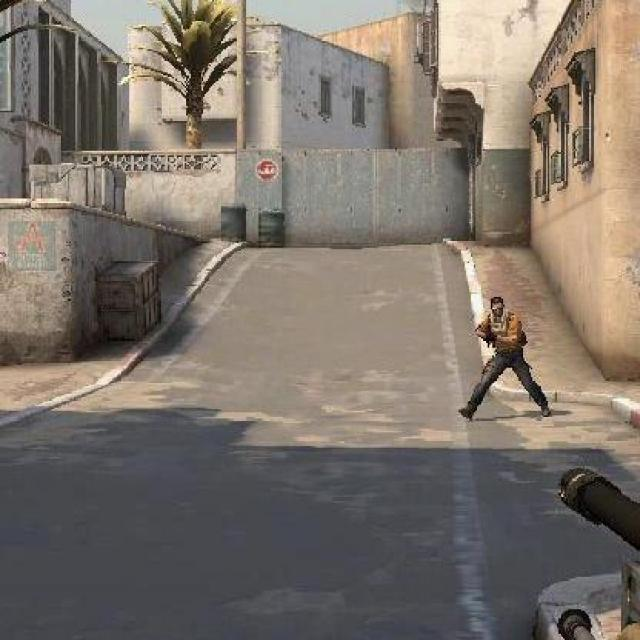Dead: (484, 288, 510, 318)
T-Body: (466, 289, 537, 431)
